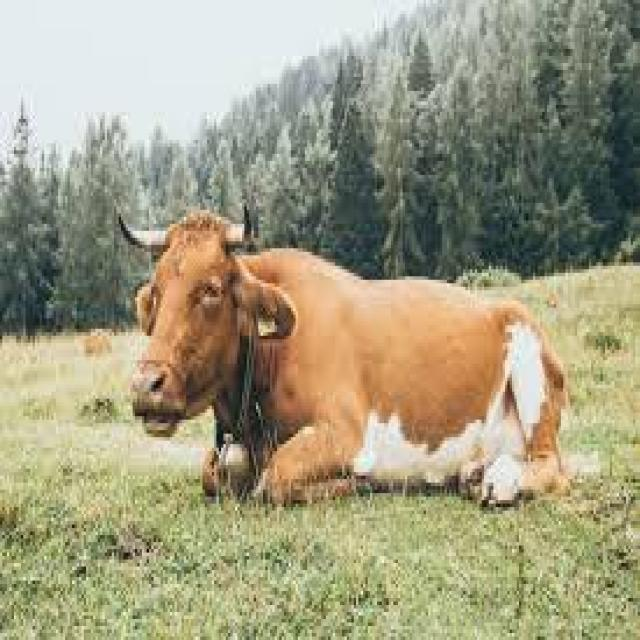Ox: (104, 193, 565, 519)
